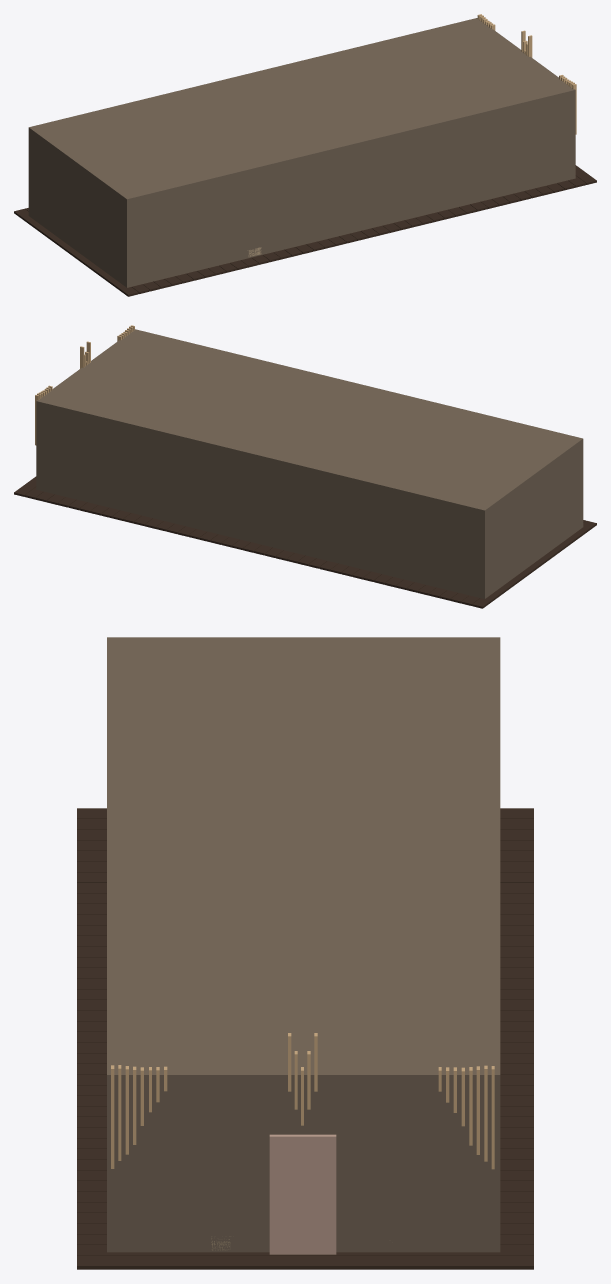
File: GALERIA_SZTUKI.fbx
3 renders of one model, top to bottom at view 1: azimuth 30°, elevation 25°; view 2: azimuth 150°, elevation 25°; view 3: azimuth 270°, elevation 25°, orthographic. The views are drawn at different scales.
Visible parts, largest first — view 1: Wall_01, Floor_01; view 2: Wall_01, Floor_01; view 3: Wall_01, Floor_01, Door_01, WallDeco_01, WallDeco_02, WallDeco_03.
Part boxes in pixels (x1,y1,x2,y2): Wall_01: (28, 18, 575, 287); Floor_01: (14, 165, 596, 296); Wall_01: (36, 329, 583, 598); Floor_01: (14, 476, 596, 608); Wall_01: (107, 637, 500, 1252); Floor_01: (77, 808, 533, 1269); Door_01: (269, 1134, 336, 1254); WallDeco_01: (438, 1065, 494, 1169); WallDeco_02: (111, 1065, 167, 1168); WallDeco_03: (288, 1033, 317, 1125).
Bounding box in the file's own units: 16.51 × 3.73 × 6.97.
